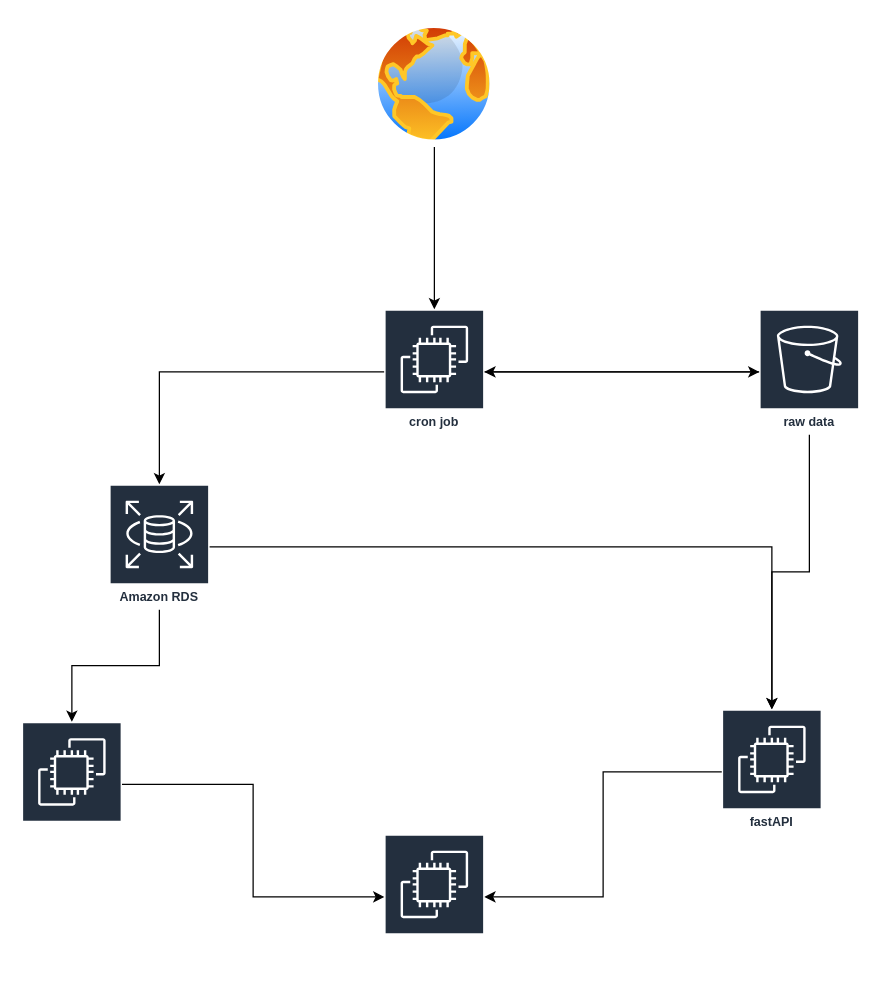
Some shapes in this 881 by 981 pixel diagram are drawn without their labels. The box of each missing label's shape, as (x1, y1, x2, y2) in pixels:
express js: (21, 721, 122, 847)
react js: (383, 833, 484, 959)
